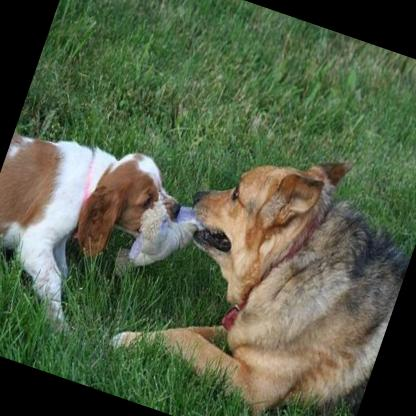Welsh_springer_spaniel: (0, 106, 194, 362)
